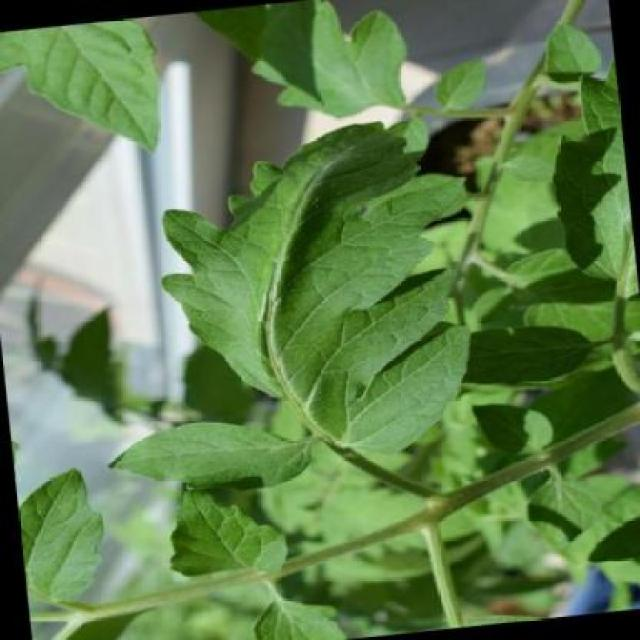Healthy Leaf: (167, 109, 530, 486), (1, 13, 203, 189), (208, 1, 441, 136), (117, 403, 334, 507), (158, 469, 322, 598), (15, 443, 127, 607)
